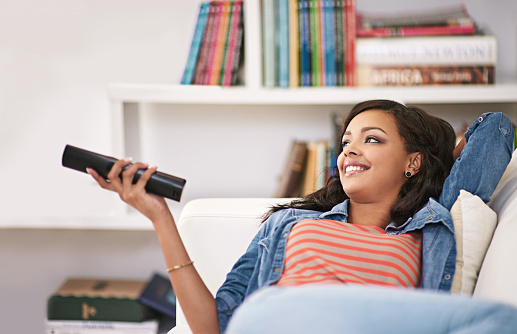deitado: (141, 86, 494, 334)
